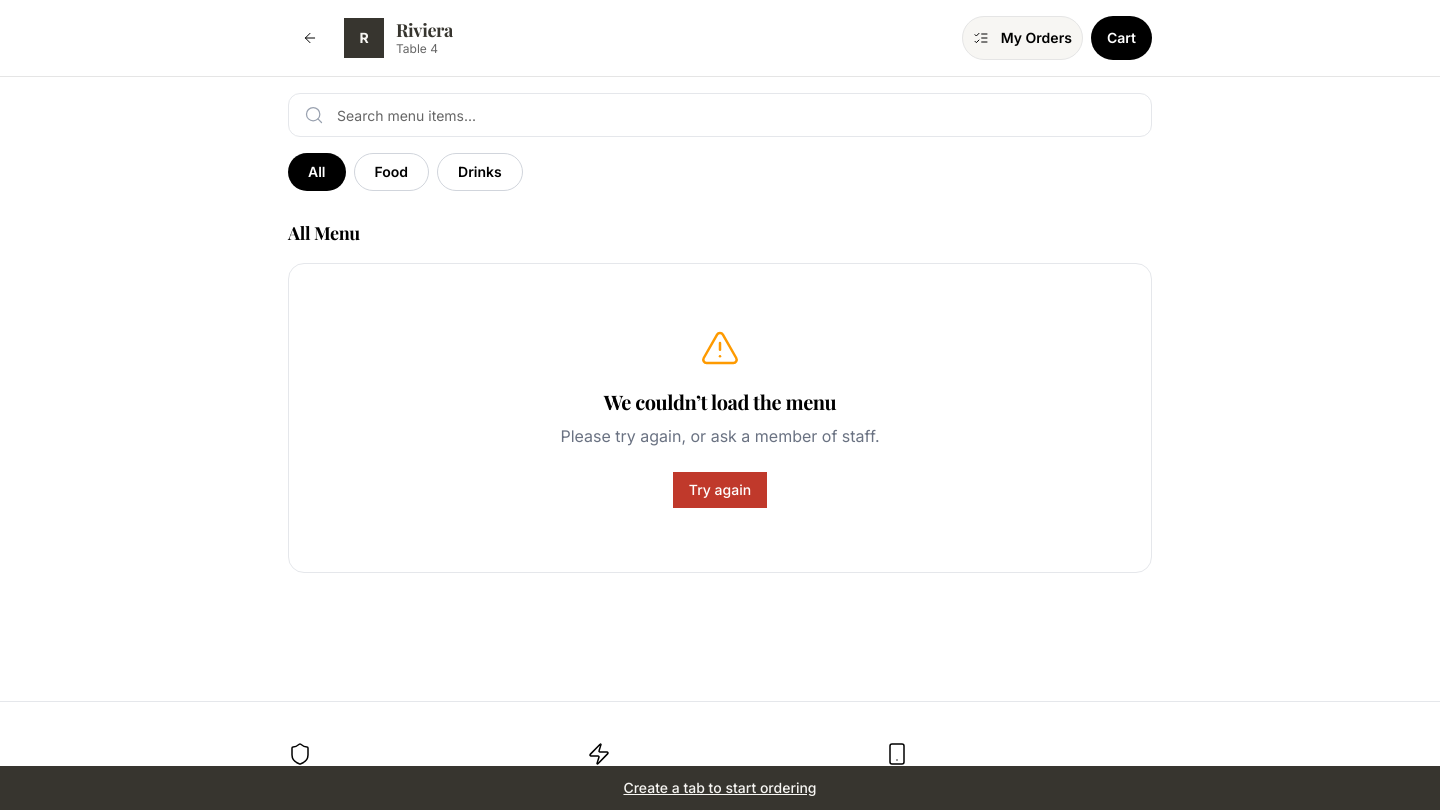
browse page — the customer is told when the menu fails to load › recovers when the customer retries and the menu comes back
What coordinates should you click on to do the following:
click the button "Try again"
I would click on:
 (720, 490)
Its box is x1=673 y1=472 x2=767 y2=508.
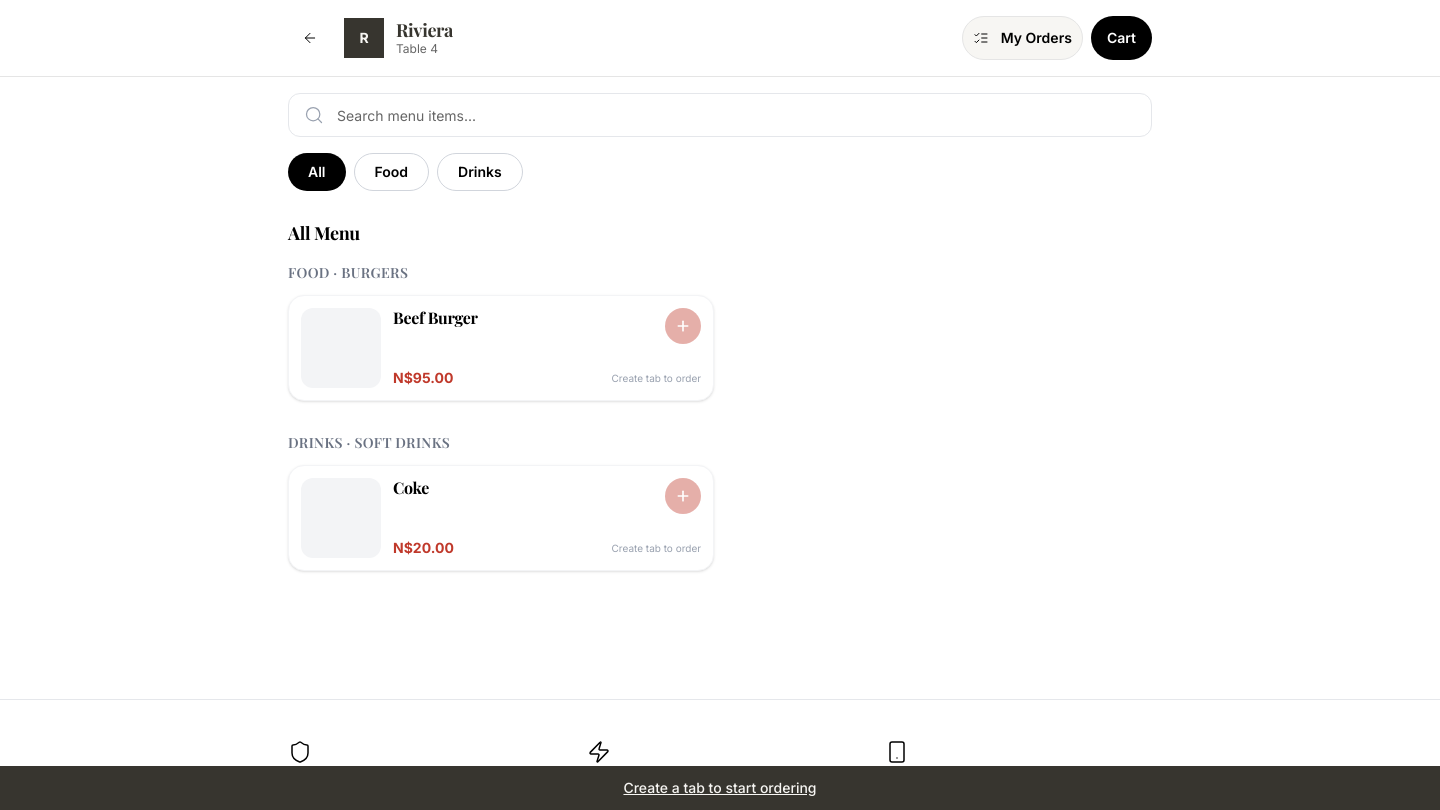
Expected: the text "Beef Burger" is shown, x1=393 y1=307 x2=478 y2=328
Expected: the text "couldn.t load" is gone
